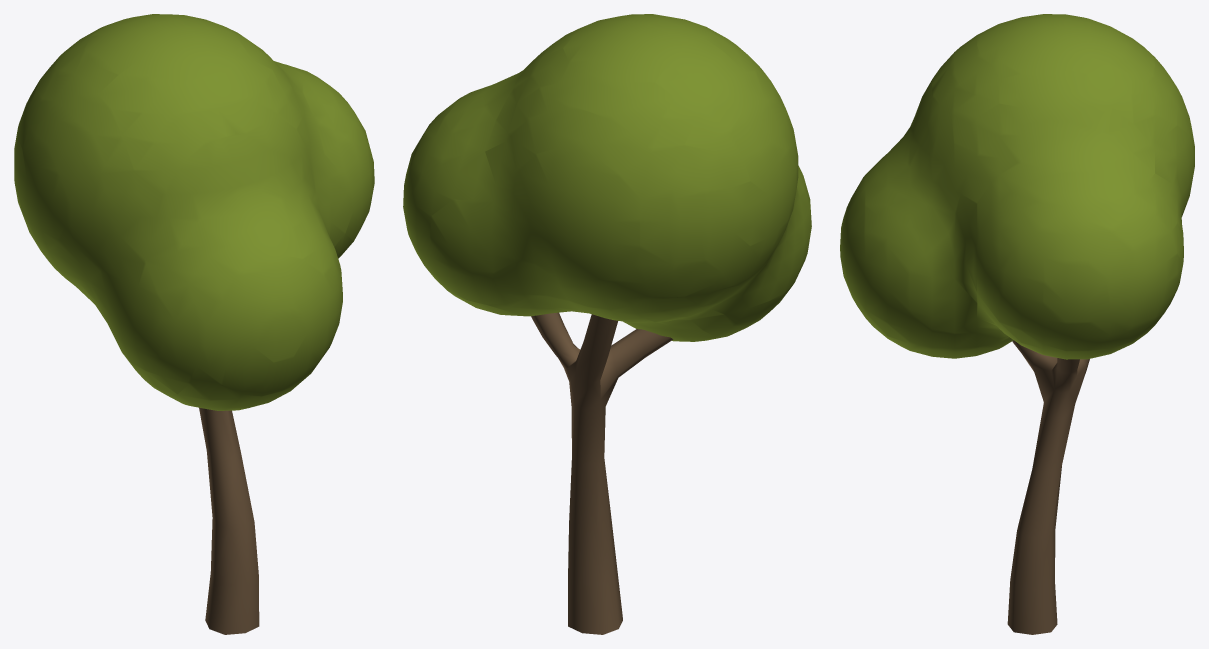
The model's file is SimpleTree.gltf.
3 views of the same model, side by side, from view 1: azimuth 30°, elevation 25°; view 2: azimuth 150°, elevation 25°; view 3: azimuth 270°, elevation 25° (orthographic). The views are drawn at different scales.
Parts seen in each view (by area): view 1: Tree_1; view 2: Tree_1; view 3: Tree_1.
Part boxes in pixels (x1,y1,x2,y2): Tree_1: (14, 14, 374, 634); Tree_1: (403, 14, 811, 634); Tree_1: (840, 14, 1194, 634).
Bounding box in the file's own units: 3.44 × 5.86 × 3.31.
